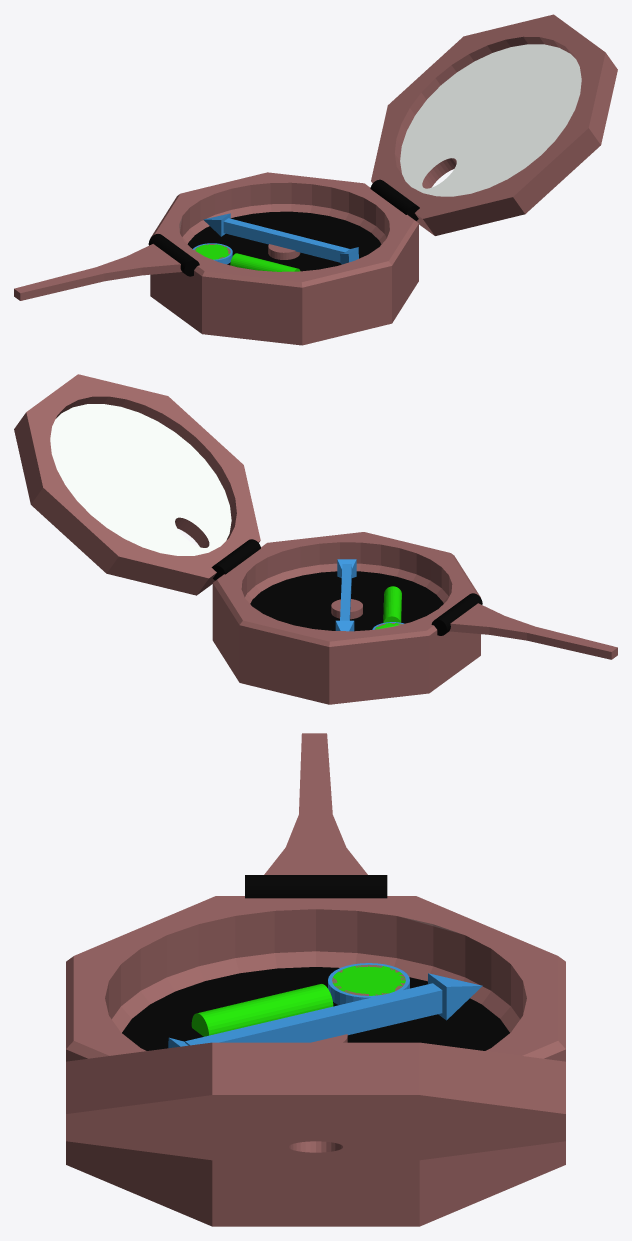
File: compass.fbx
3 renders of one model, top to bottom at view 1: azimuth 30°, elevation 25°; view 2: azimuth 150°, elevation 25°; view 3: azimuth 270°, elevation 25°, orthographic. The views are drawn at different scales.
Parts seen in each view (by area): view 1: brunton.002; view 2: brunton.002; view 3: brunton.002.
Boxes of the visible parts, bbox=[...] form: brunton.002: bbox=[14, 14, 617, 345]; brunton.002: bbox=[14, 374, 617, 704]; brunton.002: bbox=[66, 733, 565, 1226].
Bounding box in the file's own units: 748 × 228 × 282.
